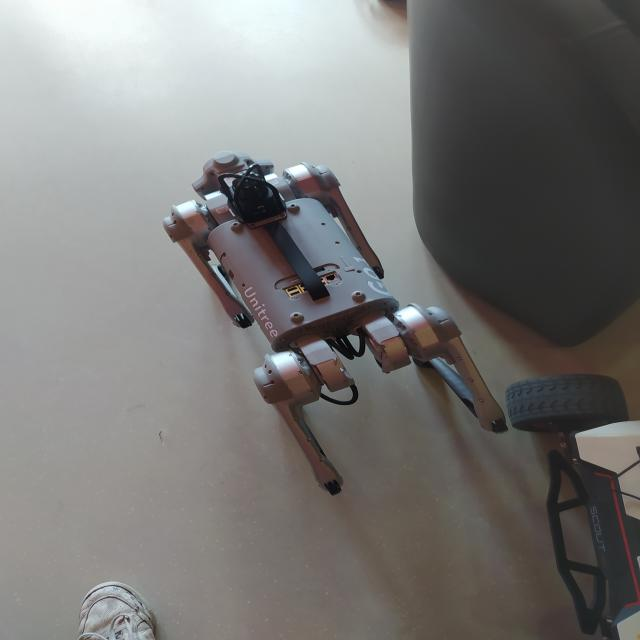unitree-go1-robot: (131, 150, 508, 506)
